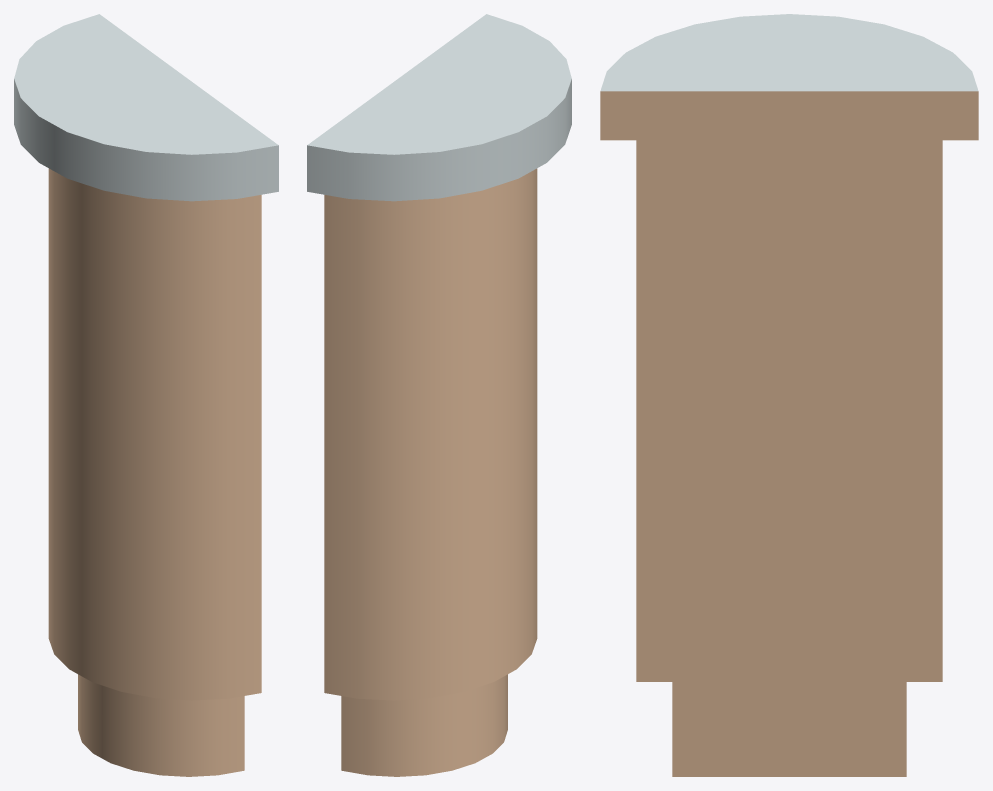
The model's file is kitchenBarEnd.glb.
The picture shows the model from 3 angles, left to right: view 1: azimuth 30°, elevation 25°; view 2: azimuth 150°, elevation 25°; view 3: azimuth 270°, elevation 25°; orthographic projection. The views are drawn at different scales.
Parts seen in each view (by area): view 1: kitchenBarEnd(Clone); view 2: kitchenBarEnd(Clone); view 3: kitchenBarEnd(Clone).
Part boxes in pixels (bbox=[...]): kitchenBarEnd(Clone): bbox=[14, 14, 278, 776]; kitchenBarEnd(Clone): bbox=[307, 14, 571, 776]; kitchenBarEnd(Clone): bbox=[600, 14, 978, 776].
Bounding box in the file's own units: 0.1016 × 0.42 × 0.21.
